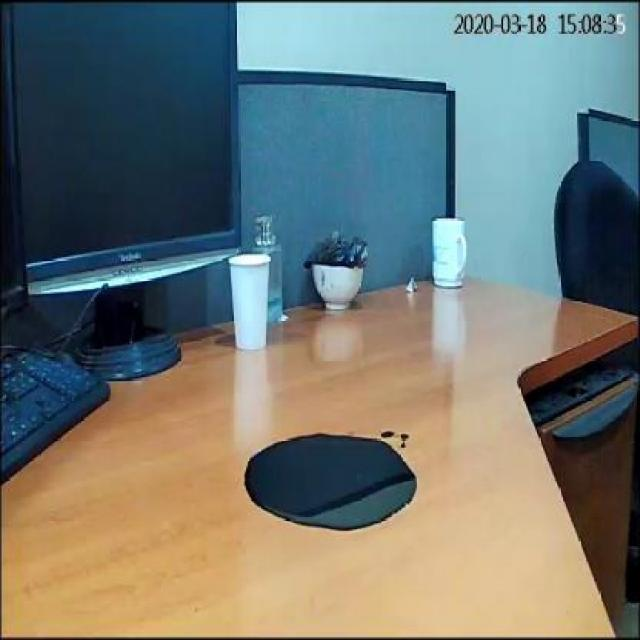spill: (236, 430, 416, 533)
